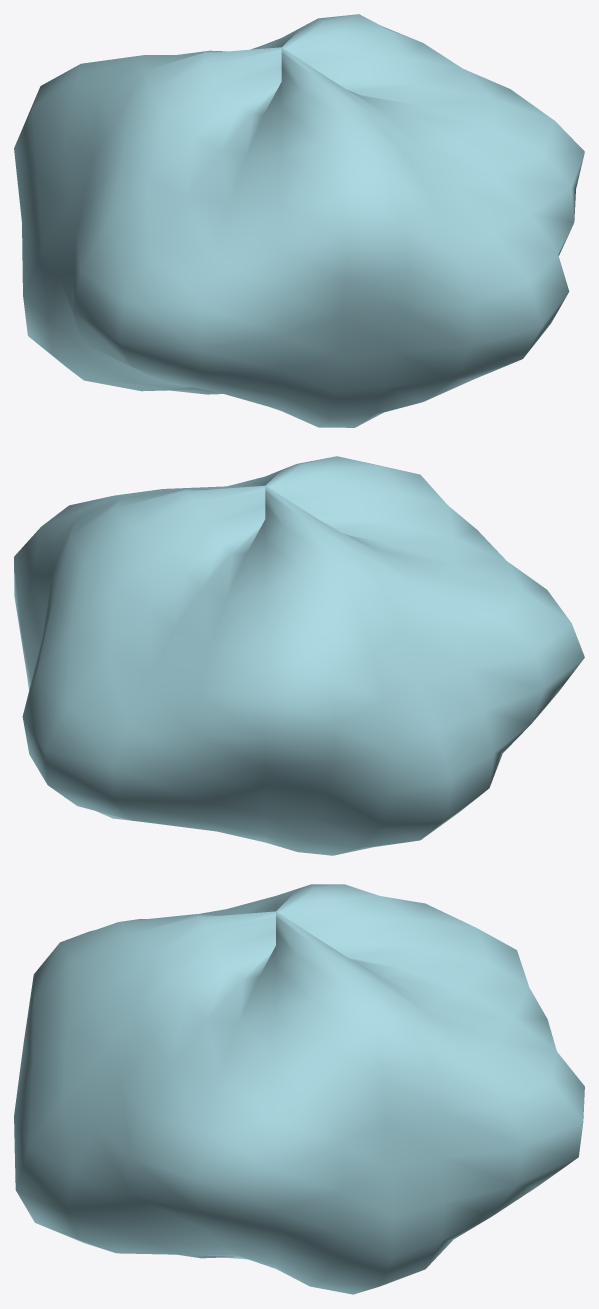
File: mist-volume.glb
The picture shows the model from 3 angles, top to bottom: view 1: azimuth 30°, elevation 25°; view 2: azimuth 150°, elevation 25°; view 3: azimuth 270°, elevation 25°; orthographic projection. The views are drawn at different scales.
Visible parts, largest first — view 1: Mist source - 3D folded volume; view 2: Mist source - 3D folded volume; view 3: Mist source - 3D folded volume.
Boxes of the visible parts, x1,y1,x2,y2 form: Mist source - 3D folded volume: (14,14,584,427); Mist source - 3D folded volume: (14,456,584,855); Mist source - 3D folded volume: (14,884,584,1294).
Bounding box in the file's own units: 2.13 × 1.4 × 2.07.
